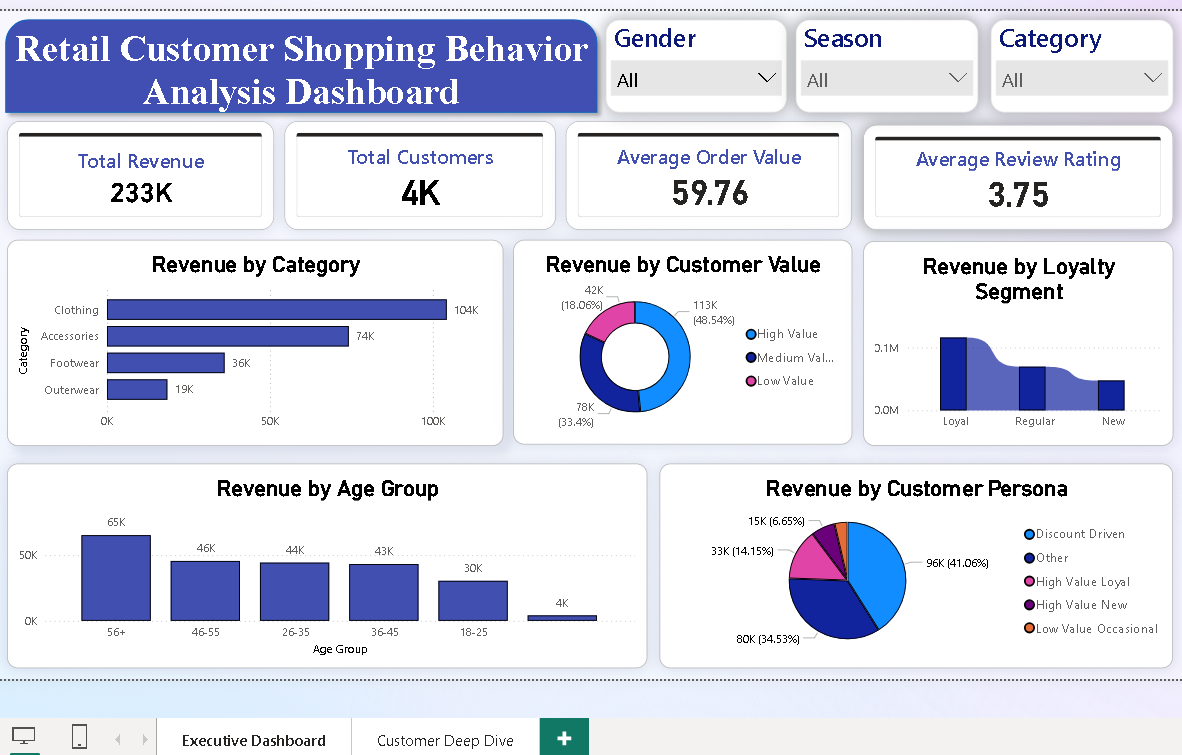

Layout of this report page (visuals, bound fields, positions):
{"tool":"powerbi","page":{"name":"Executive Dashboard","canvas":[1280,720],"ordinal":0},"visuals":[{"type":"cardVisual","fields":{"Data":["customer_shopping_behavior_cleaned.Total Revenue"]},"box":[10.8,118.6,288.4,117.2],"z":0},{"type":"cardVisual","fields":{"Data":["customer_shopping_behavior_cleaned.Total Customers"]},"box":[310,118.6,292.4,117.2],"z":1000},{"type":"cardVisual","fields":{"Data":["customer_shopping_behavior_cleaned.Average Order Value"]},"box":[613.2,118.6,308.6,117.2],"z":2000},{"type":"cardVisual","fields":{"Data":["customer_shopping_behavior_cleaned.Average Review Rating"]},"box":[933.9,122.6,334.2,113.2],"z":3000},{"type":"clusteredBarChart","title":"Revenue by Category","fields":{"Category":["customer_shopping_behavior_cleaned.Category"],"Y":["Sum(customer_shopping_behavior_cleaned.Purchase Amount (USD))"]},"box":[10.8,246.6,535,222.4],"z":4000},{"type":"clusteredColumnChart","title":"Revenue by Age Group","fields":{"Category":["customer_shopping_behavior_cleaned.Age Group"],"Y":["Sum(customer_shopping_behavior_cleaned.Purchase Amount (USD))"]},"box":[10.8,487.9,690,221],"z":5000},{"type":"donutChart","title":"Revenue by Customer Value","fields":{"Category":["customer_shopping_behavior_cleaned.Customer Value"],"Y":["Sum(customer_shopping_behavior_cleaned.Purchase Amount (USD))"]},"box":[556.6,246.6,365.2,221],"z":6000},{"type":"ribbonChart","title":"Revenue by Loyalty Segment","fields":{"Category":["customer_shopping_behavior_cleaned.Loyalty Segment"],"Y":["Sum(customer_shopping_behavior_cleaned.Purchase Amount (USD))"]},"box":[933.9,248,334.2,221],"z":7000},{"type":"slicer","fields":{"Values":["customer_shopping_behavior_cleaned.Gender"]},"box":[656.3,9.4,195.4,99.7],"z":8000},{"type":"slicer","fields":{"Values":["customer_shopping_behavior_cleaned.Season"]},"box":[861.2,9.4,196.8,99.7],"z":9000},{"type":"slicer","fields":{"Values":["customer_shopping_behavior_cleaned.Category"]},"box":[1071.4,9.4,196.8,99.7],"z":10000},{"type":"pieChart","title":"Revenue by Customer Persona","fields":{"Category":["customer_shopping_behavior_cleaned.Customer Persona"],"Y":["Sum(customer_shopping_behavior_cleaned.Purchase Amount (USD))"]},"box":[714.3,487.9,553.9,221],"z":11000},{"type":"shape","box":[0,0,656.3,118.6],"z":12000}]}

Visuals, with their boxes on the page's 1280x720 design canvas (x1, y1, x2, y2). These are canvas units, not pixel positions in the 1182x755 screenshot, which may show the page scaled, cropped or inside an application window:
cardVisual - customer_shopping_behavior_cleaned.Total Revenue: detection(11, 119, 299, 236)
cardVisual - customer_shopping_behavior_cleaned.Total Customers: detection(310, 119, 602, 236)
cardVisual - customer_shopping_behavior_cleaned.Average Order Value: detection(613, 119, 922, 236)
cardVisual - customer_shopping_behavior_cleaned.Average Review Rating: detection(934, 123, 1268, 236)
"Revenue by Category" clusteredBarChart: detection(11, 247, 546, 469)
"Revenue by Age Group" clusteredColumnChart: detection(11, 488, 701, 709)
"Revenue by Customer Value" donutChart: detection(557, 247, 922, 468)
"Revenue by Loyalty Segment" ribbonChart: detection(934, 248, 1268, 469)
slicer - customer_shopping_behavior_cleaned.Gender: detection(656, 9, 852, 109)
slicer - customer_shopping_behavior_cleaned.Season: detection(861, 9, 1058, 109)
slicer - customer_shopping_behavior_cleaned.Category: detection(1071, 9, 1268, 109)
"Revenue by Customer Persona" pieChart: detection(714, 488, 1268, 709)
shape: detection(0, 0, 656, 119)
